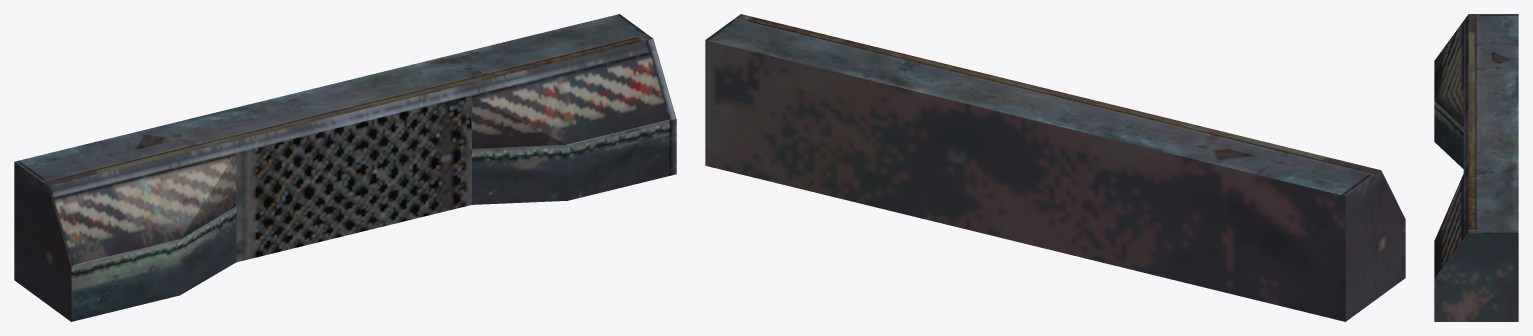
The model's file is SM_BLD_BASEWALL_01.fbx.
The picture shows the model from 3 angles, left to right: view 1: azimuth 30°, elevation 25°; view 2: azimuth 150°, elevation 25°; view 3: azimuth 270°, elevation 25°; orthographic projection. The views are drawn at different scales.
Visible parts, largest first — view 1: SM_BLD_BASEWALL_01; view 2: SM_BLD_BASEWALL_01; view 3: SM_BLD_BASEWALL_01.
Part boxes in pixels (<box>): SM_BLD_BASEWALL_01: <box>14,14,676,321</box>; SM_BLD_BASEWALL_01: <box>705,14,1405,321</box>; SM_BLD_BASEWALL_01: <box>1434,14,1518,321</box>.
Bounding box in the file's own units: 4 × 0.75 × 0.65.
